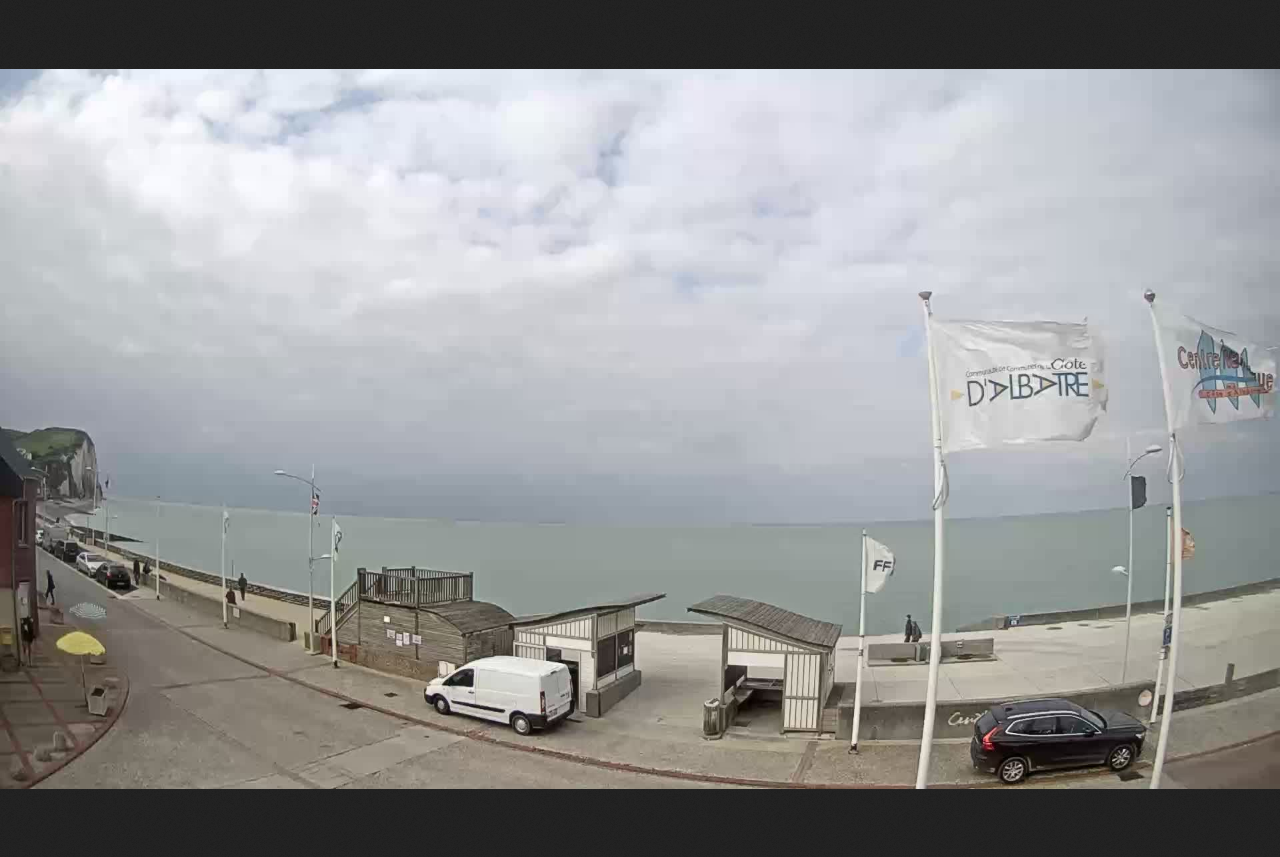yes: (910, 305, 1121, 451), (1145, 287, 1280, 436)
